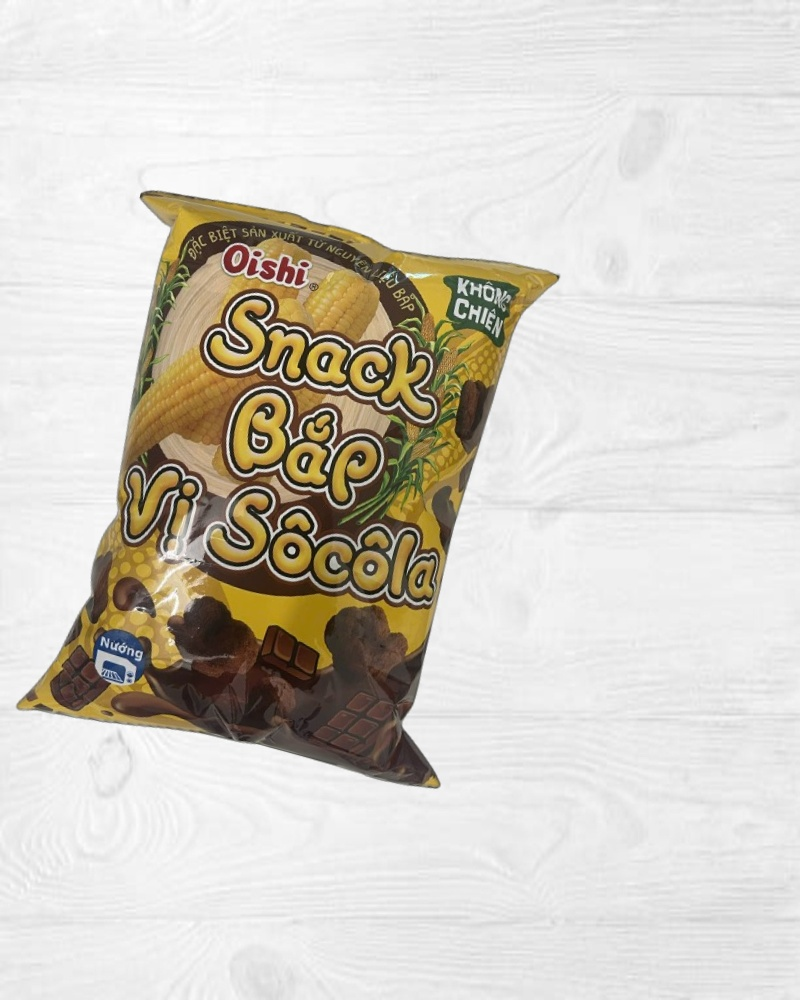Snack socola: (9, 169, 575, 809)
